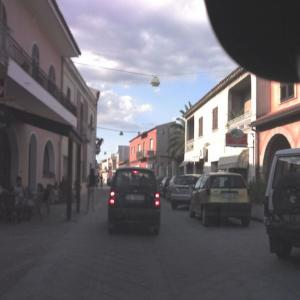Vehicle-registration-plate: (126, 194, 146, 202), (223, 192, 239, 199)
